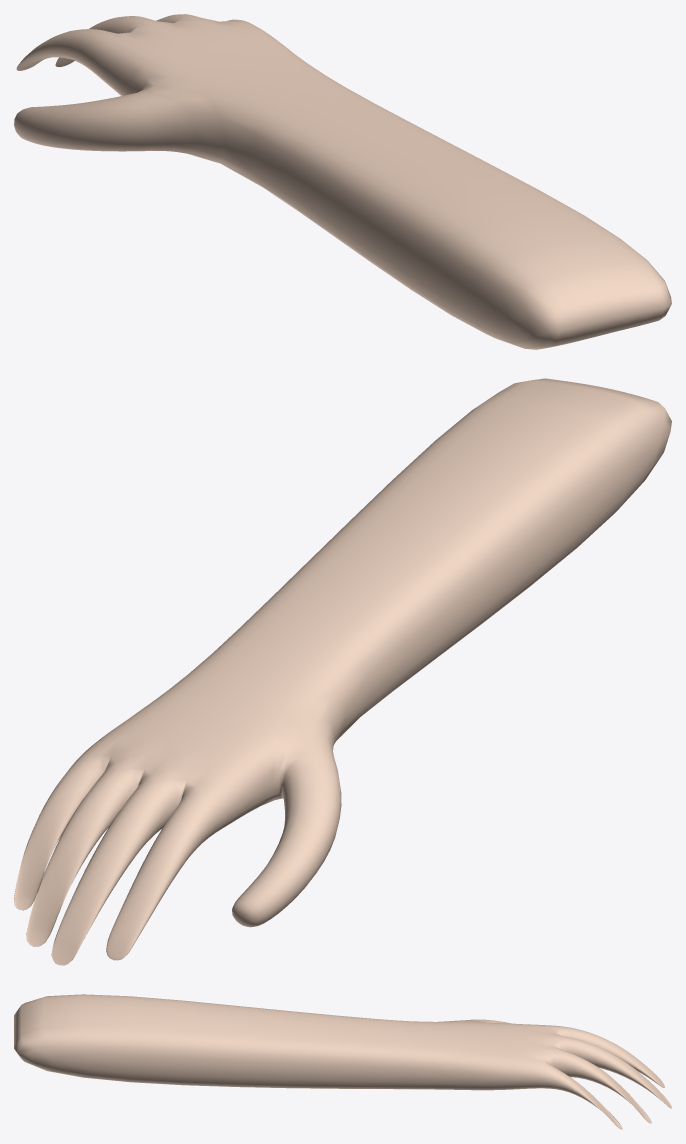
The model's file is hand_fp.glb.
3 renders of one model, top to bottom at view 1: azimuth 30°, elevation 25°; view 2: azimuth 150°, elevation 25°; view 3: azimuth 270°, elevation 25°, orthographic. The views are drawn at different scales.
Parts seen in each view (by area): view 1: OrganicHand; view 2: OrganicHand; view 3: OrganicHand.
Boxes of the visible parts, box(x1,y1,x2,y2) form: OrganicHand: box(14, 14, 671, 349); OrganicHand: box(14, 378, 671, 965); OrganicHand: box(14, 994, 671, 1129).
Size of the model in its own units: 0.1018 by 0.0736 by 0.4086.
